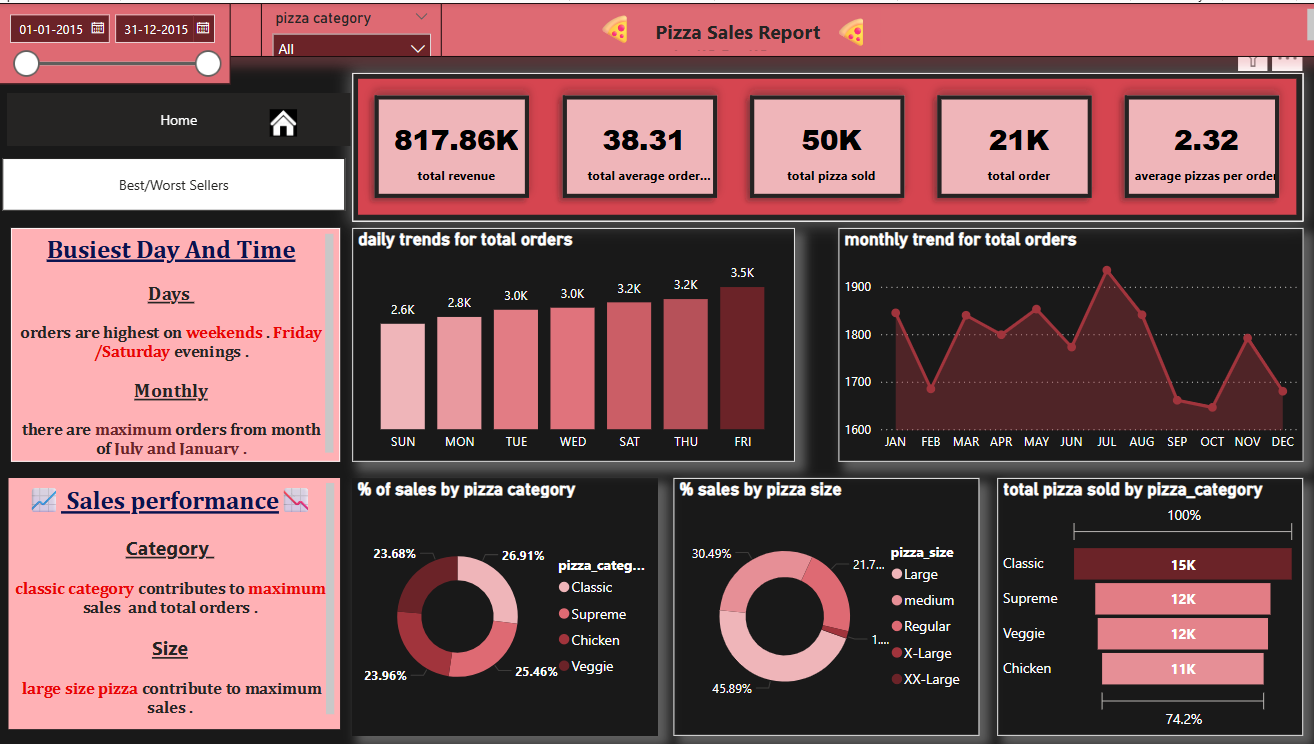

The page's visual inventory and layout, read from the dashboard file:
{"tool":"powerbi","page":{"name":"Home","canvas":[1280,720],"ordinal":0},"visuals":[{"type":"cardVisual","fields":{"Data":["pizza_sales_excel_file.total revenue","pizza_sales_excel_file.total average order value","pizza_sales_excel_file.total pizza sold","pizza_sales_excel_file.total order","pizza_sales_excel_file.average pizzas per order"]},"box":[343.8,67.6,918.1,143.6],"z":0},{"type":"columnChart","title":"daily trends for total orders","fields":{"Category":["pizza_sales_excel_file.order days"],"Y":["pizza_sales_excel_file.total order"]},"box":[343.8,217.2,427.1,225.6],"z":1000},{"type":"areaChart","title":"monthly trend for total orders","fields":{"Category":["pizza_sales_excel_file.order month"],"Y":["pizza_sales_excel_file.total order"]},"box":[813.1,217.2,448.8,225.6],"z":2000},{"type":"donutChart","title":"% of sales by pizza category ","fields":{"Y":["pizza_sales_excel_file.total revenue"],"Category":["pizza_sales_excel_file.pizza_category"]},"box":[343.8,458.4,295.6,248.5],"z":3000},{"type":"donutChart","title":"% sales by pizza size","fields":{"Category":["pizza_sales_excel_file.pizza_size"],"Y":["pizza_sales_excel_file.total revenue"]},"box":[653.9,458.4,295.6,248.5],"z":4000},{"type":"funnel","fields":{"Category":["pizza_sales_excel_file.pizza_category"],"Y":["pizza_sales_excel_file.total pizza sold"]},"box":[966.4,458.4,295.6,248.5],"z":5000},{"type":"textbox","box":[0,0,1280,51.9],"z":6000},{"type":"textbox","box":[14.5,217.2,317.3,225.6],"z":7000},{"type":"textbox","box":[12.1,458.4,319.7,242.5],"z":8000},{"type":"slicer","fields":{"Values":["pizza_sales_excel_file.pizza_category"]},"box":[255.4,0,174.7,51.8],"z":9000},{"type":"slicer","fields":{"Values":["pizza_sales_excel_file.order_date"]},"box":[0,0,226.5,78.3],"z":10000},{"type":"pageNavigator","box":[11.4,87.3,331.6,51.9],"z":11000},{"type":"pageNavigator","box":[6.3,149.4,331.6,51.9],"z":12000},{"type":"textbox","box":[801.7,3,51.3,46.5],"z":13000},{"type":"image","box":[255,97.5,46.2,36.2],"z":14000}]}

Visuals, with their boxes on the page's 1280x720 design canvas (x1, y1, x2, y2). These are canvas units, not pixel positions in the 1314x744 screenshot, which may show the page scaled, cropped or inside an application window:
cardVisual - pizza_sales_excel_file.total revenue x pizza_sales_excel_file.total average order value: [344, 68, 1262, 211]
"daily trends for total orders" columnChart: [344, 217, 771, 443]
"monthly trend for total orders" areaChart: [813, 217, 1262, 443]
"% of sales by pizza category " donutChart: [344, 458, 639, 707]
"% sales by pizza size" donutChart: [654, 458, 950, 707]
funnel - pizza_sales_excel_file.pizza_category x pizza_sales_excel_file.total pizza sold: [966, 458, 1262, 707]
textbox: [0, 0, 1280, 52]
textbox: [14, 217, 332, 443]
textbox: [12, 458, 332, 701]
slicer - pizza_sales_excel_file.pizza_category: [255, 0, 430, 52]
slicer - pizza_sales_excel_file.order_date: [0, 0, 226, 78]
pageNavigator: [11, 87, 343, 139]
pageNavigator: [6, 149, 338, 201]
textbox: [802, 3, 853, 50]
image: [255, 98, 301, 134]
